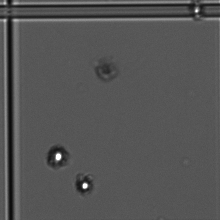Dead Cell: (91, 55, 123, 84)
Living Cell: (43, 141, 72, 170), (71, 171, 100, 200), (191, 1, 203, 19)
